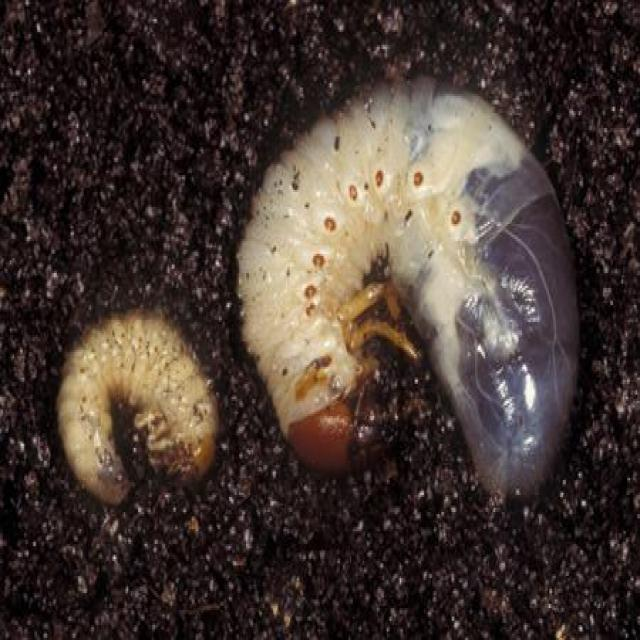Grub-Adult-: (229, 66, 585, 504), (47, 296, 228, 516)
